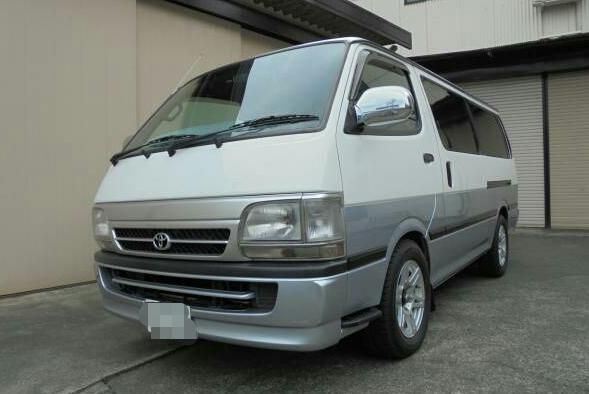Van: (87, 36, 523, 351)
